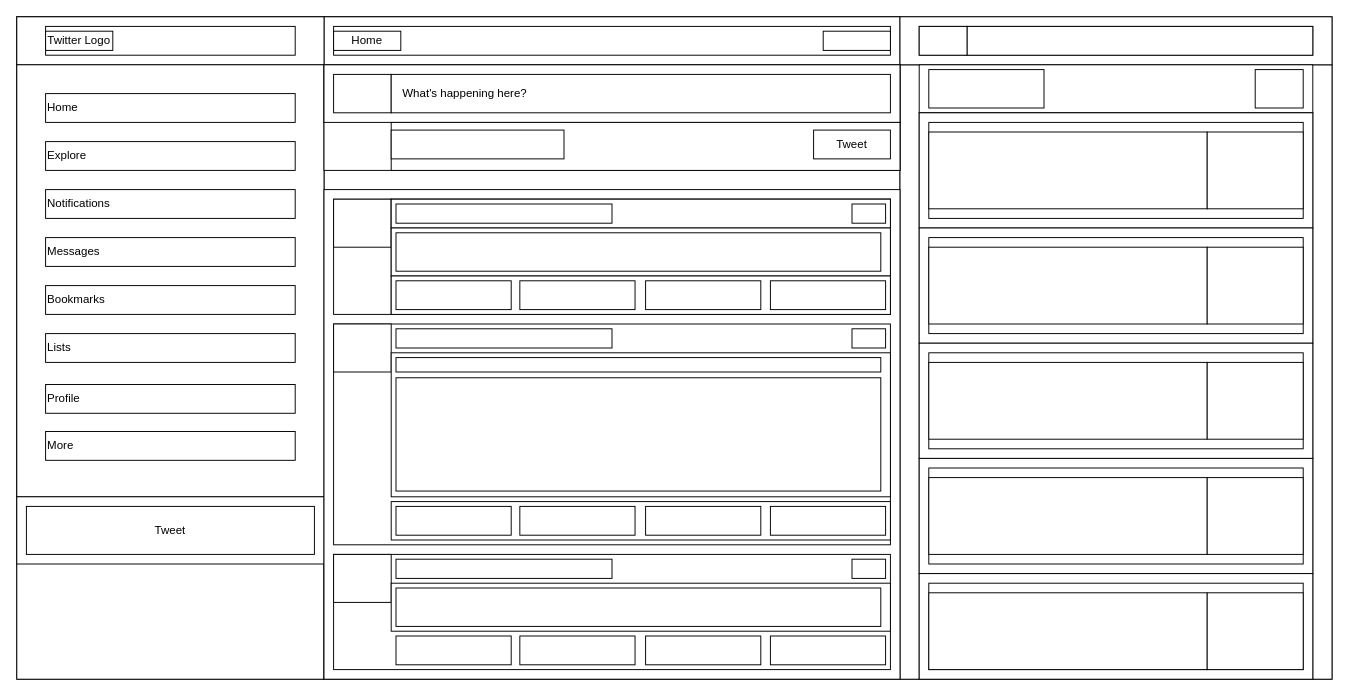
Image size: 1349x696. Some labels were removed from this diagram. Here are the shapes that lost their labels. From the top down, the centre of each, then its label:
At point 1139,40: "Search Twitter".
At point 986,88: "What's happening?".
